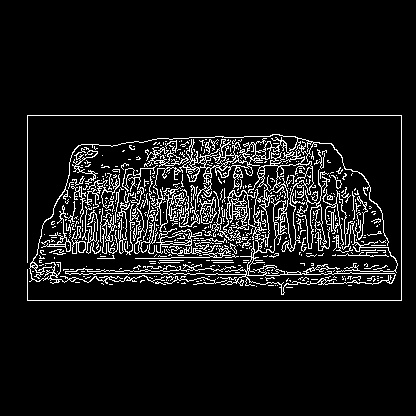buddha-sitting: (94, 86, 207, 211)
